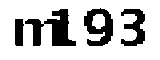1: (51, 8, 75, 50)
3: (118, 8, 148, 47)
9: (80, 7, 114, 49)
m: (11, 17, 58, 52)
